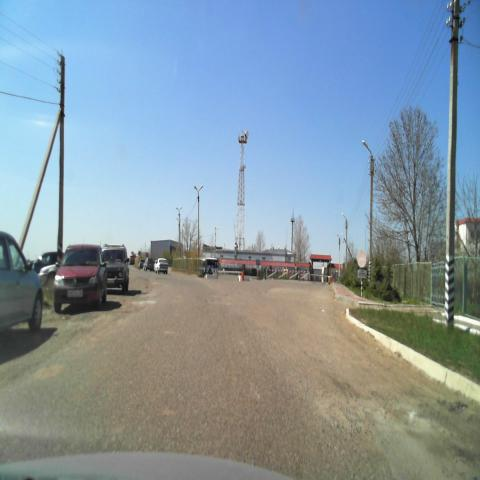3_1: (357, 249, 367, 269)
